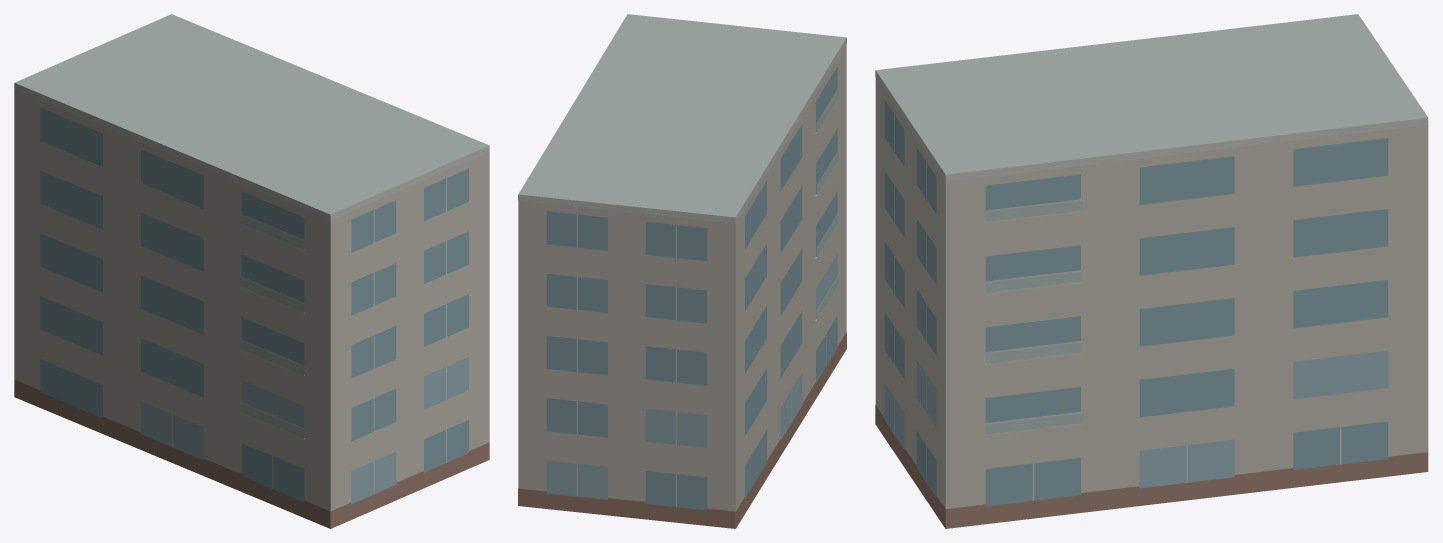
The model's file is survey-upis-32587846.glb.
The picture shows the model from 3 angles, left to right: view 1: azimuth 30°, elevation 25°; view 2: azimuth 150°, elevation 25°; view 3: azimuth 270°, elevation 25°; orthographic projection. The views are drawn at different scales.
Visible parts, largest first — view 1: survey-upis-32587846.tmp; view 2: survey-upis-32587846.tmp; view 3: survey-upis-32587846.tmp.
Boxes of the visible parts, x1,y1,x2,y2 form: survey-upis-32587846.tmp: [14, 14, 489, 528]; survey-upis-32587846.tmp: [518, 14, 846, 528]; survey-upis-32587846.tmp: [875, 14, 1428, 528].
Bounding box in the file's own units: 11.88 × 12.2 × 17.27.
